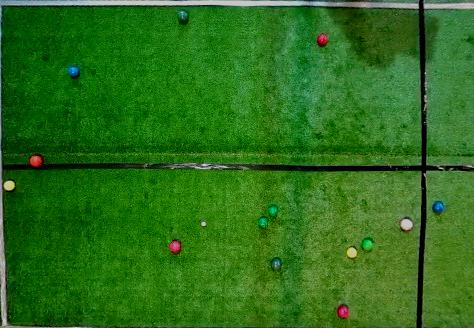blue: (432, 201, 443, 212), (68, 66, 79, 77)
green: (270, 258, 282, 270), (361, 239, 373, 251), (177, 10, 189, 22), (268, 205, 278, 216), (258, 217, 268, 227)
red: (400, 218, 413, 231), (29, 155, 43, 167), (337, 305, 349, 319), (170, 241, 181, 253), (317, 34, 328, 46)
vline: (416, 1, 474, 327), (0, 1, 12, 327)
white: (201, 222, 206, 226)
yellow: (3, 180, 16, 191), (346, 247, 357, 258)
